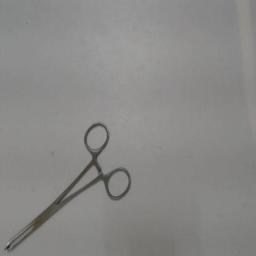Allis Tissue Forceps: (2, 117, 138, 253)
